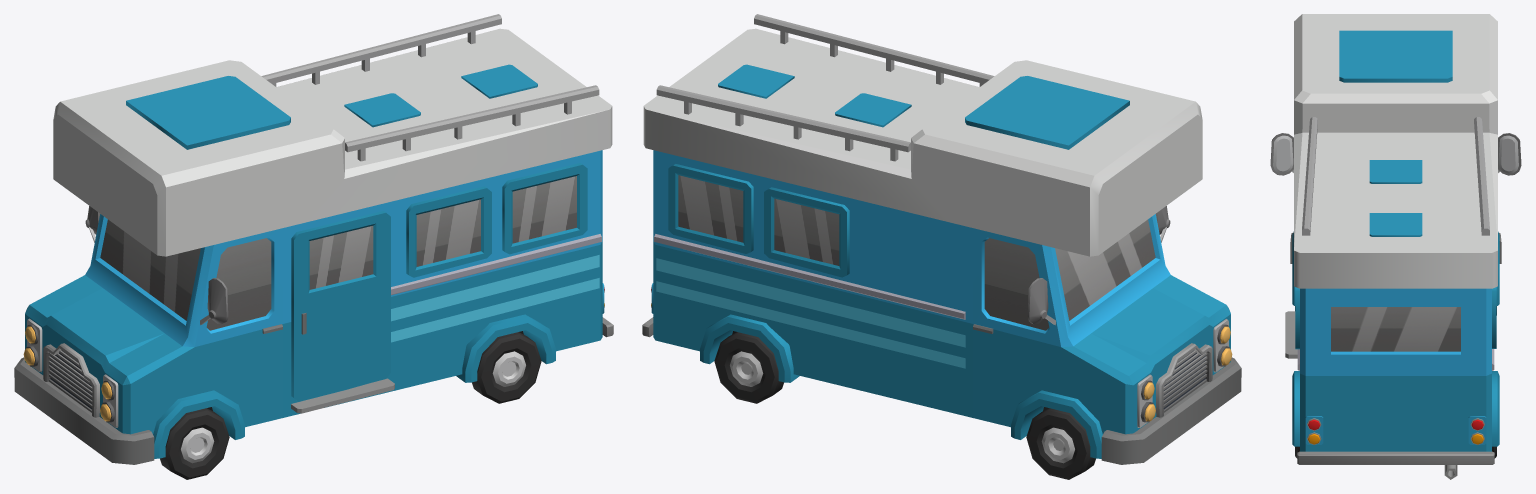
The model's file is RVCar_J.gltf.
3 views of the same model, side by side, from view 1: azimuth 30°, elevation 25°; view 2: azimuth 150°, elevation 25°; view 3: azimuth 270°, elevation 25° (orthographic). The views are drawn at different scales.
Visible parts, largest first — view 1: RVCar_J, RL, FL; view 2: RVCar_J, RR, FR; view 3: RVCar_J.
Boxes of the visible parts, <box> form: RVCar_J: <box>14,14,613,464</box>; RL: <box>472,332,541,403</box>; FL: <box>160,408,229,479</box>; RVCar_J: <box>642,14,1241,464</box>; RR: <box>714,332,783,403</box>; FR: <box>1026,408,1095,479</box>; RVCar_J: <box>1270,14,1521,479</box>.
Size of the model in its own units: 4.14 by 2.46 by 1.94.
4 materials, 4 textured.
